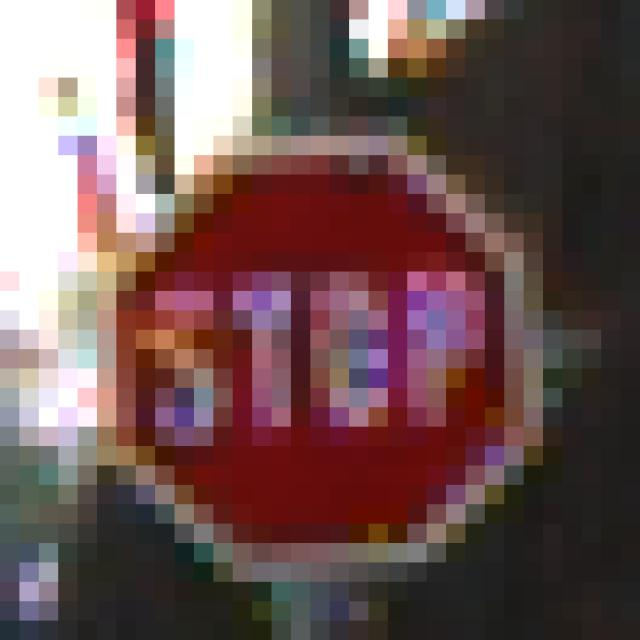STOP: (98, 117, 525, 544)
